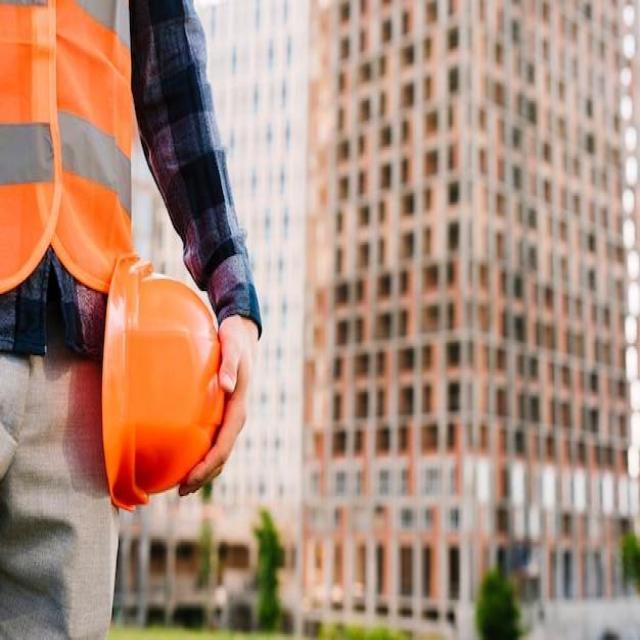Reflective-Jacket: (1, 1, 143, 297)
Safety-Helmet: (108, 252, 227, 513)
